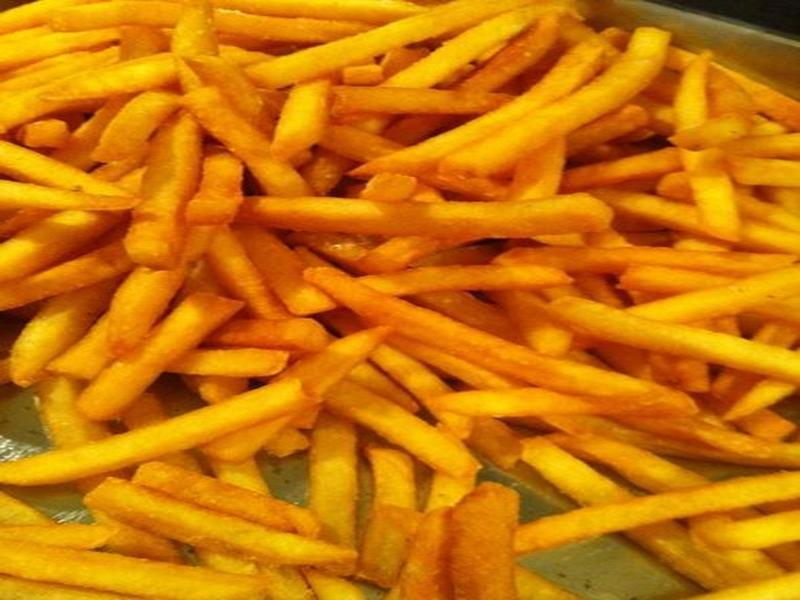french_fries: (41, 5, 800, 526)
